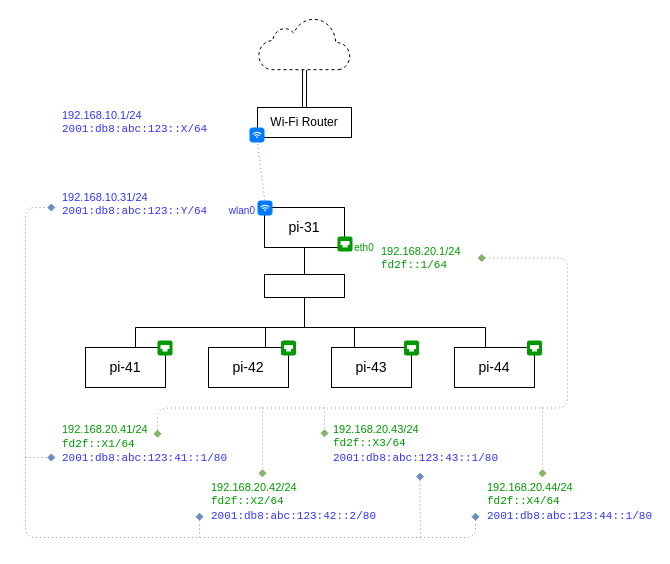
This 670x564 diagram has some shape labels left out. Here are the shapes that lost their labels. From the top down, the centre of each, then its label:
pixel 304 43: ISP
pixel 304 286: Switch
